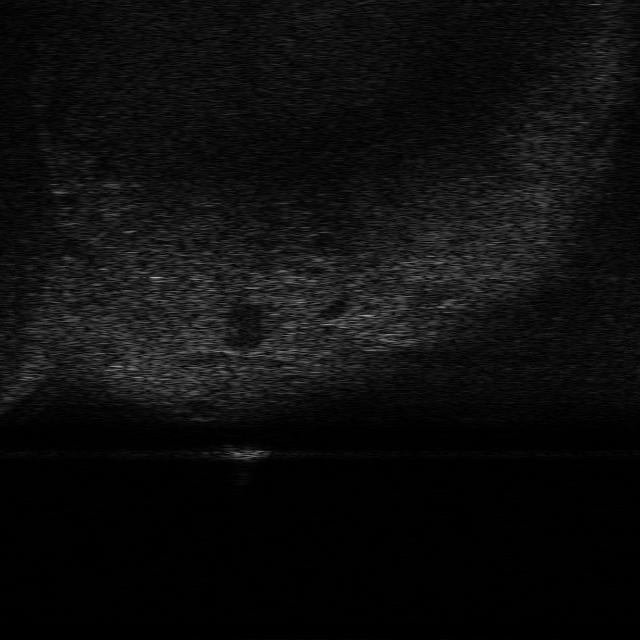cube: (202, 442, 272, 464)
